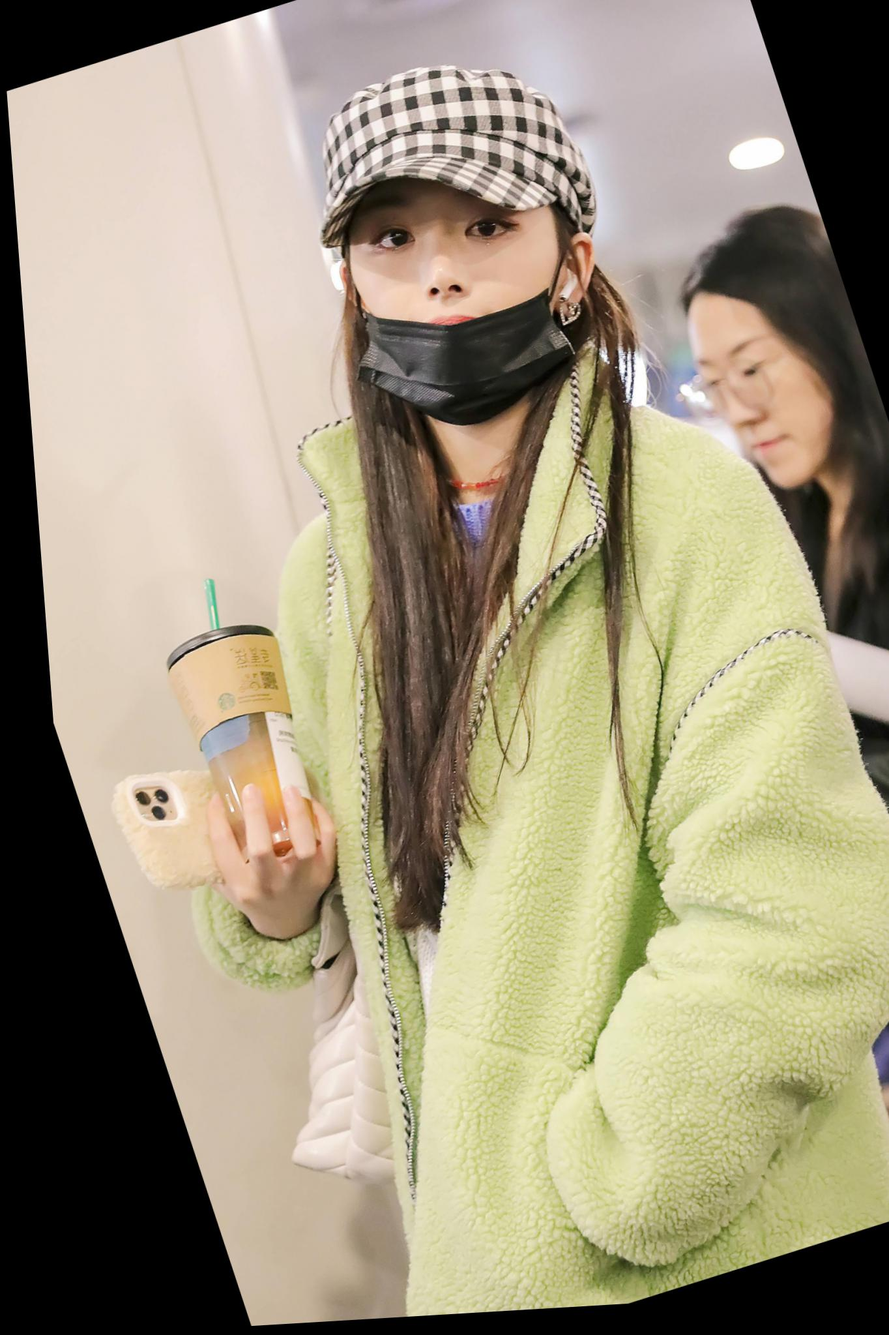NONE: (678, 307, 848, 515)
WRONG: (325, 146, 604, 443)
